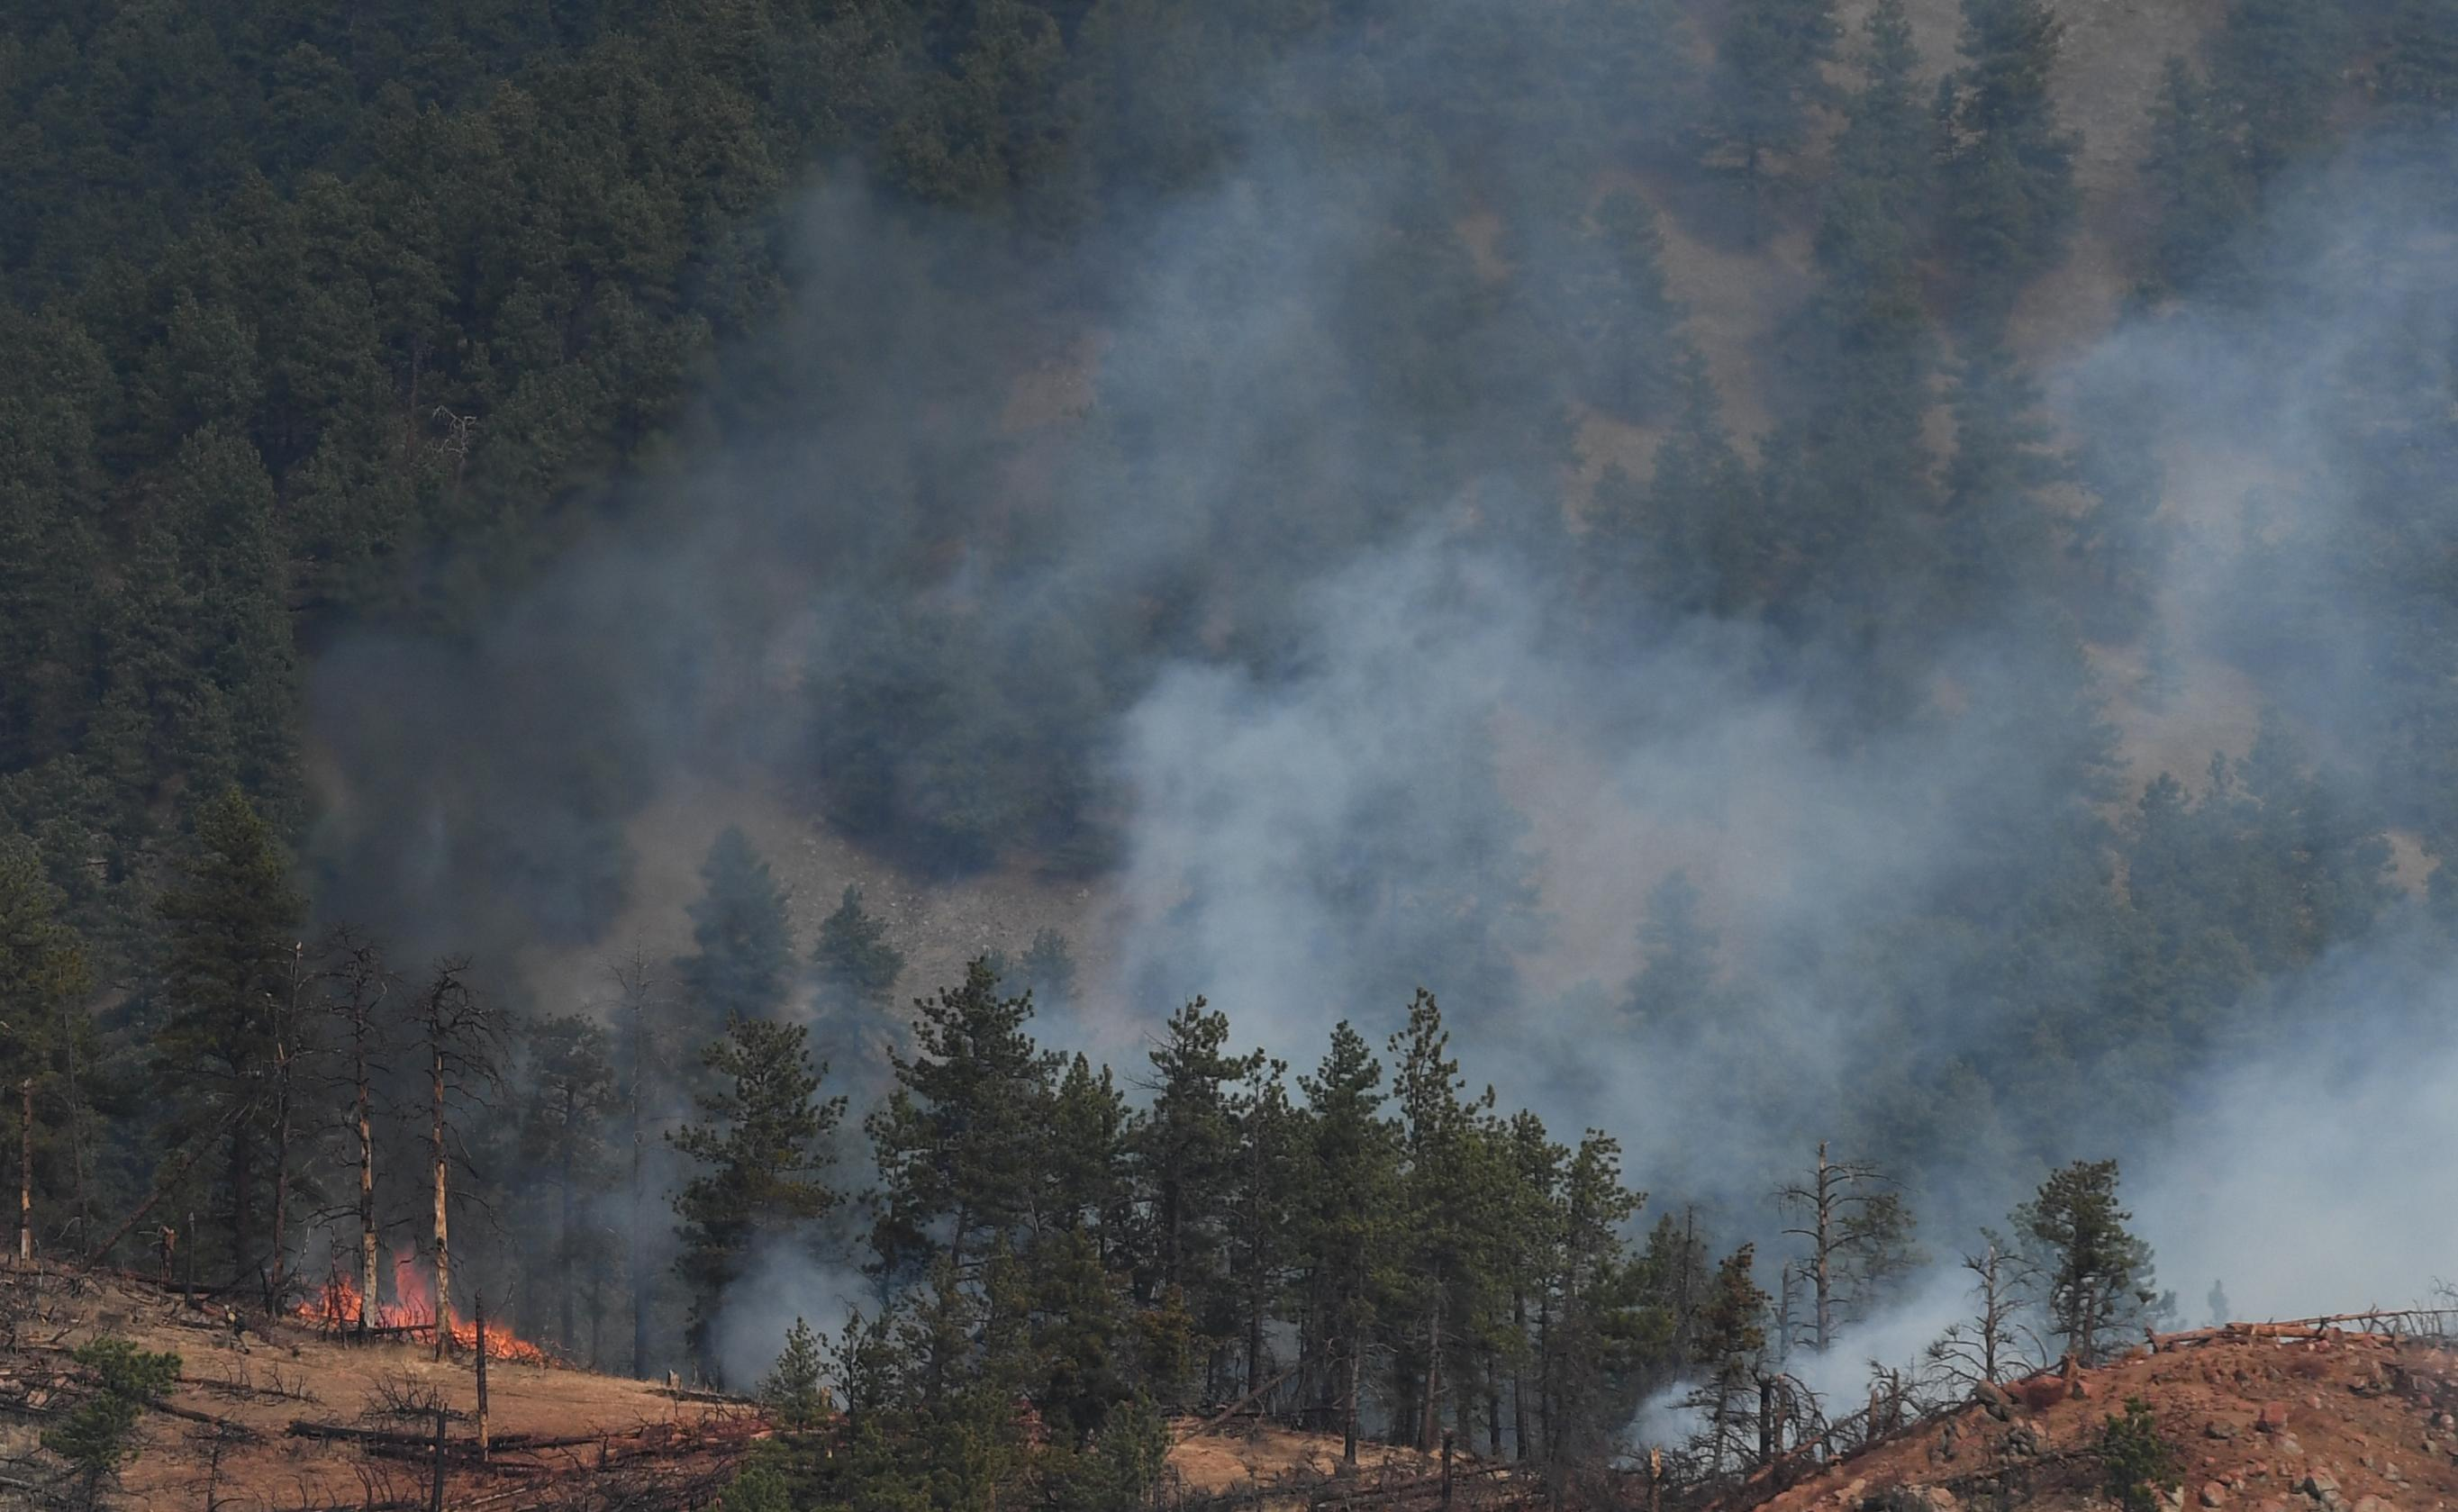smoke: (1589, 945, 2458, 1491)
